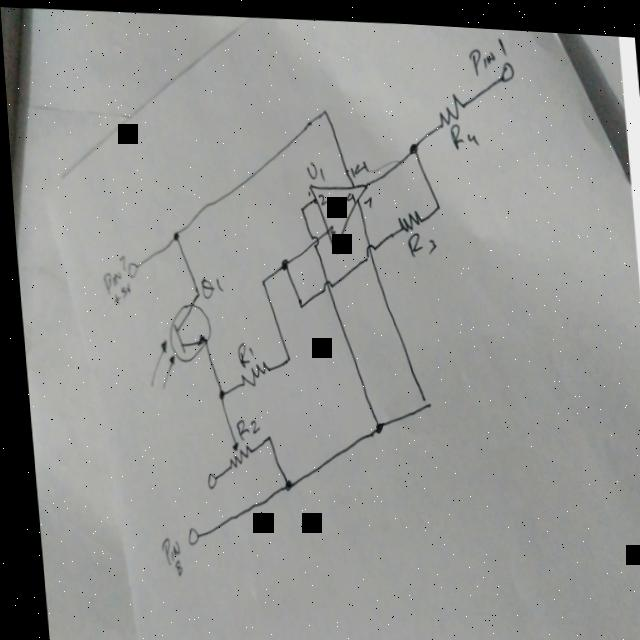crossover: (305, 227, 318, 247), (360, 236, 373, 256), (317, 269, 330, 288)
junction: (317, 101, 327, 113), (189, 284, 198, 297), (210, 383, 219, 396), (415, 388, 424, 401), (275, 253, 284, 266), (367, 415, 376, 427), (292, 294, 301, 306), (405, 136, 414, 148), (279, 347, 287, 360), (168, 227, 176, 239), (258, 427, 266, 439), (276, 475, 284, 487), (254, 272, 262, 284), (295, 199, 303, 211), (430, 192, 438, 204)
resistor: (433, 84, 465, 122), (232, 353, 264, 386), (217, 435, 245, 464), (393, 201, 419, 226)
terminal: (495, 52, 513, 79), (120, 257, 136, 278), (178, 523, 192, 544), (197, 468, 211, 488)
text: (464, 26, 508, 72), (94, 250, 128, 304), (151, 533, 174, 574), (446, 115, 477, 145), (402, 224, 433, 252), (193, 271, 218, 295), (228, 414, 253, 437), (231, 336, 248, 364), (301, 155, 320, 176), (345, 153, 366, 172), (341, 185, 352, 199), (358, 190, 369, 204), (314, 187, 324, 202), (323, 218, 332, 234)
transistor: (134, 295, 211, 390)
